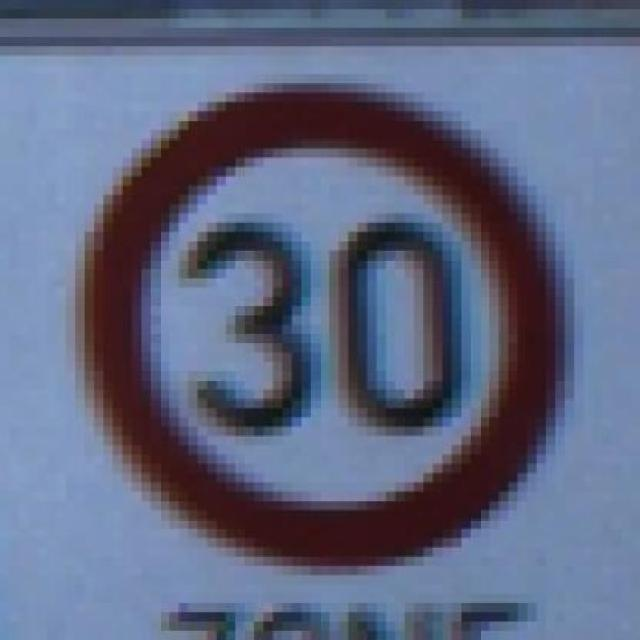Speed Limit 30 KMPh: (47, 83, 602, 575)
